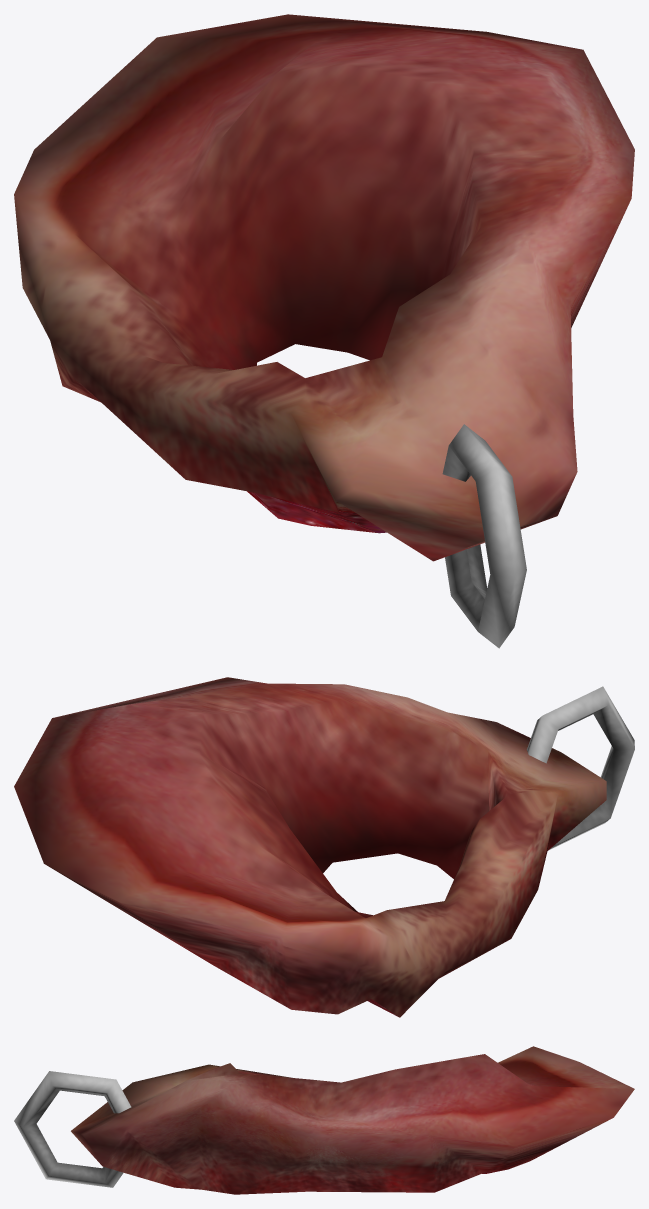
The model's file is Ear_1_low.fbx.
3 renders of one model, top to bottom at view 1: azimuth 30°, elevation 25°; view 2: azimuth 150°, elevation 25°; view 3: azimuth 270°, elevation 25°, orthographic. The views are drawn at different scales.
Parts seen in each view (by area): view 1: Ear_1_low, ring_ear_low; view 2: Ear_1_low, ring_ear_low; view 3: Ear_1_low, ring_ear_low.
Part boxes in pixels (x1,y1,x2,y2): Ear_1_low: (14,14,634,561); ring_ear_low: (442,424,526,648); Ear_1_low: (14,677,606,1017); ring_ear_low: (527,686,634,850); Ear_1_low: (71,1046,634,1194); ring_ear_low: (14,1071,131,1187).
Size of the model in its own units: 0.029 by 0.0161 by 0.0503.
